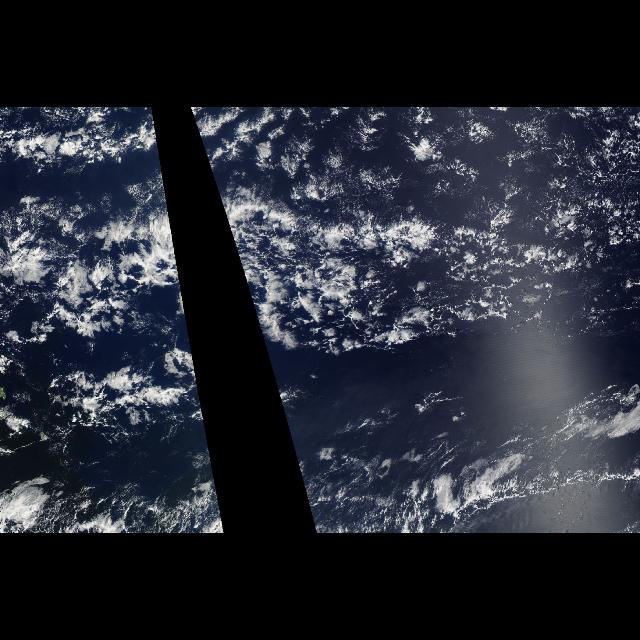Fish: (221, 200, 545, 370), (2, 200, 196, 370)
Flower: (202, 107, 424, 199)
Gravel: (269, 213, 506, 354), (349, 444, 637, 532), (541, 108, 639, 258)
